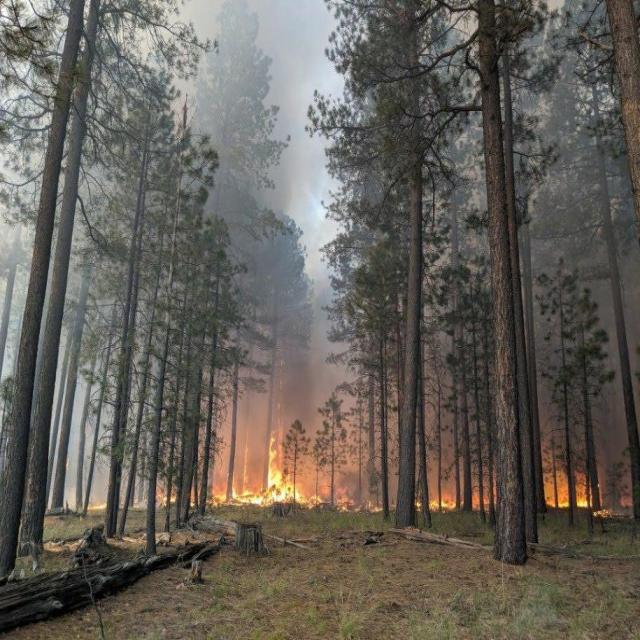fire: (212, 437, 374, 512)
